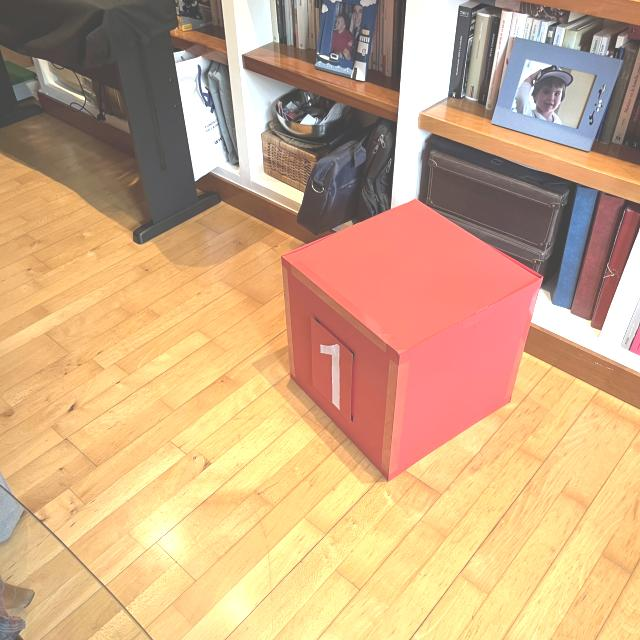box: (274, 195, 546, 482)
